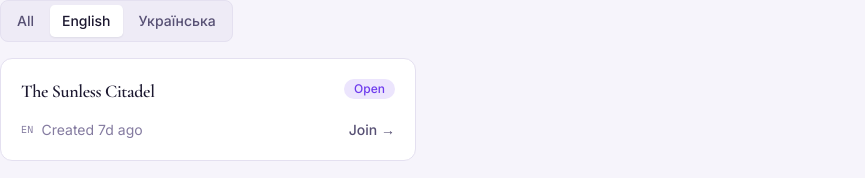
Test case: LobbyList › filters the list by tab, and lets a manual choice override the language default
Expected: the heading "The Sunless Citadel" is shown, [21,79,155,104]
Expected: the text "Тіні Вечірньої Варти" is not shown
Click the tab "Українська". click: click(177, 21)
box: [126,5,228,37]
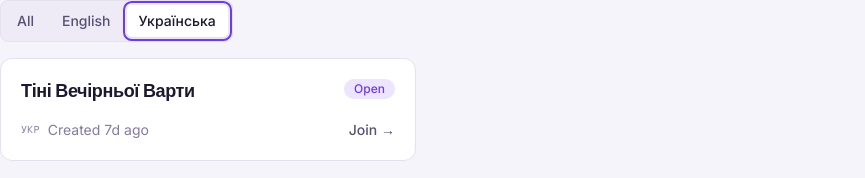
Result: the heading "Тіні Вечірньої Варти" is shown at [21,79,195,104]
Result: the link "The Sunless Citadel" is gone
Click the tab "All". click: click(26, 21)
box: [5,5,46,37]
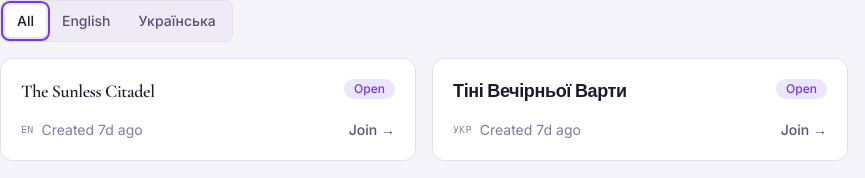
Result: the heading "Тіні Вечірньої Варти" is shown at [453,79,627,104]
Result: the heading "The Sunless Citadel" is shown at [21,79,155,104]
